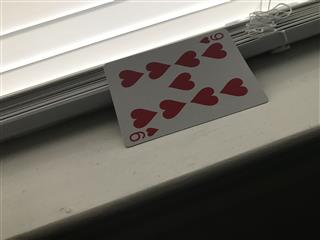NineOfHearts: (102, 27, 268, 148)
